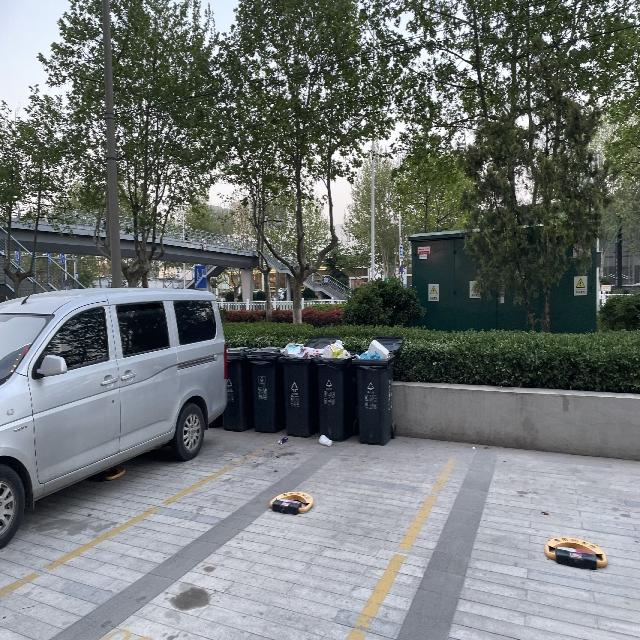garbage: (318, 434, 333, 446)
garbage_bin: (246, 345, 284, 433), (222, 346, 251, 430)
overflow: (350, 338, 395, 445), (277, 342, 319, 436), (314, 338, 352, 440)
